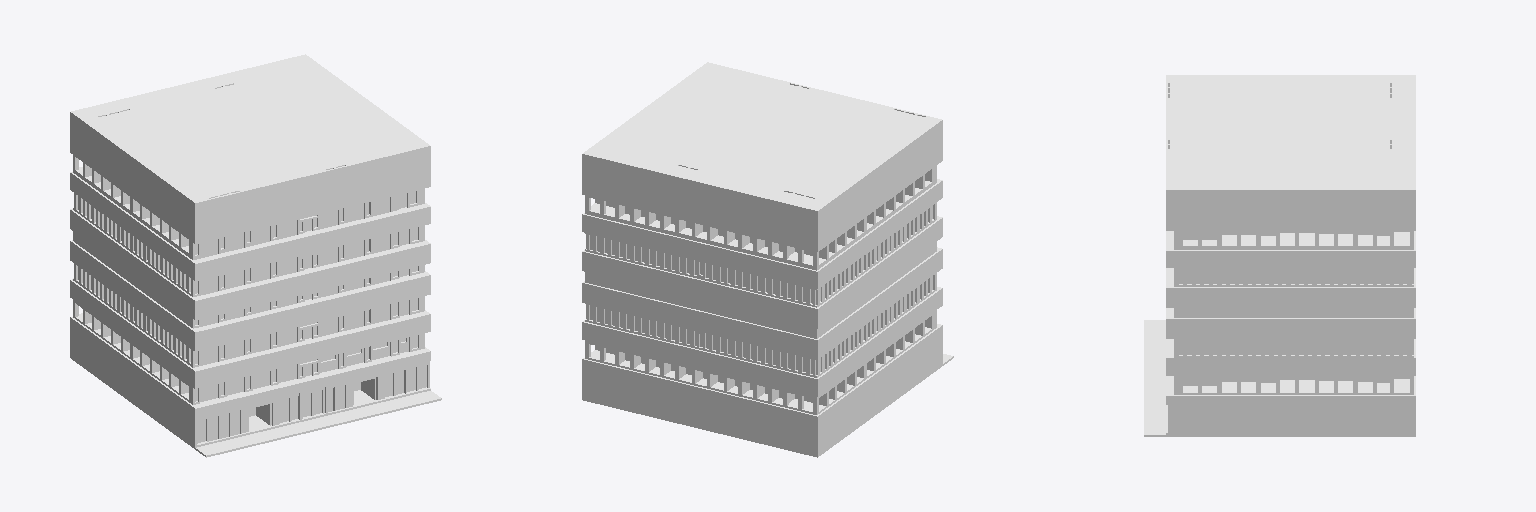
File: purpApt2.obj
3 renders of one model, left to right at view 1: azimuth 30°, elevation 25°; view 2: azimuth 150°, elevation 25°; view 3: azimuth 270°, elevation 25°, orthographic.
Bounding box in the file's own units: 126 × 126 × 126.